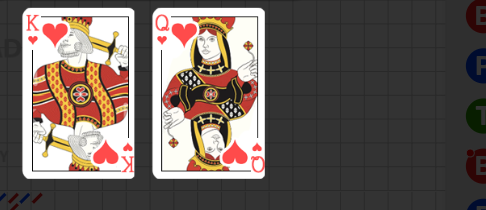9H: (250, 141, 265, 175)
KH: (25, 13, 41, 47)
